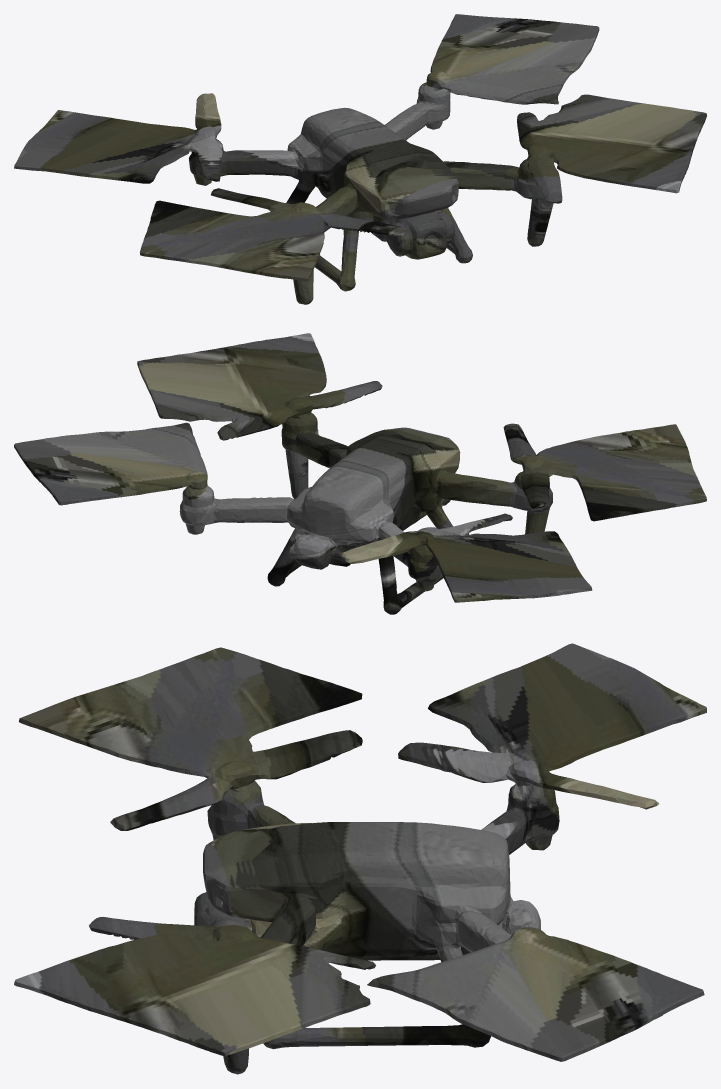
File: drone.glb
3 views of the same model, one above another, from view 1: azimuth 30°, elevation 25°; view 2: azimuth 150°, elevation 25°; view 3: azimuth 270°, elevation 25° (orthographic). The views are drawn at different scales.
Parts seen in each view (by area): view 1: geometry_0; view 2: geometry_0; view 3: geometry_0.
Boxes of the visible parts, bbox=[...] form: geometry_0: bbox=[14, 14, 706, 304]; geometry_0: bbox=[14, 333, 706, 614]; geometry_0: bbox=[14, 643, 706, 1074].
Size of the model in its own units: 0.8006 by 0.153 by 0.5656.
1 material, 1 textured.
